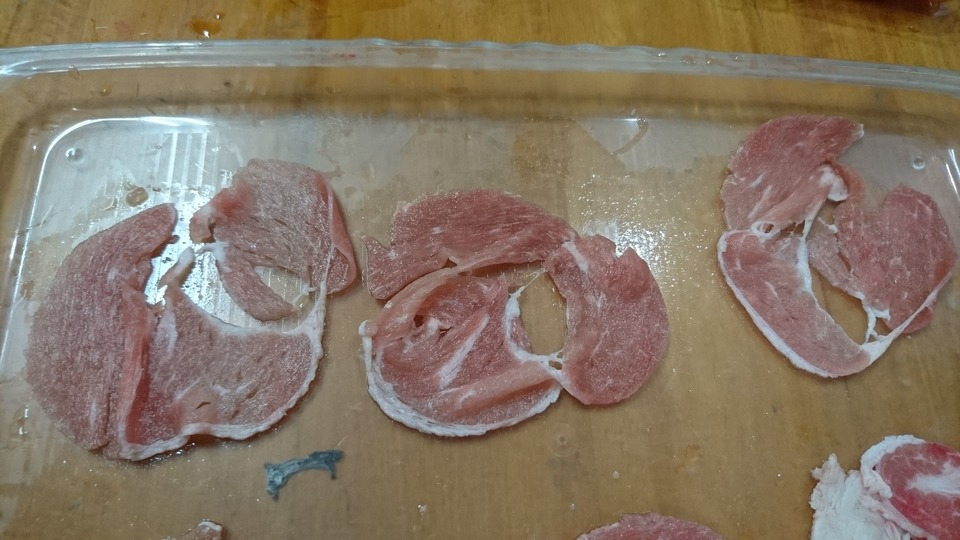restructured meat: (28, 183, 345, 469), (701, 81, 956, 388), (364, 176, 658, 420), (800, 430, 960, 537)
